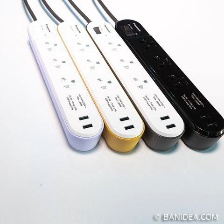three_eye_plug: (113, 17, 223, 153), (82, 17, 187, 154), (55, 18, 146, 154), (23, 17, 105, 157)
